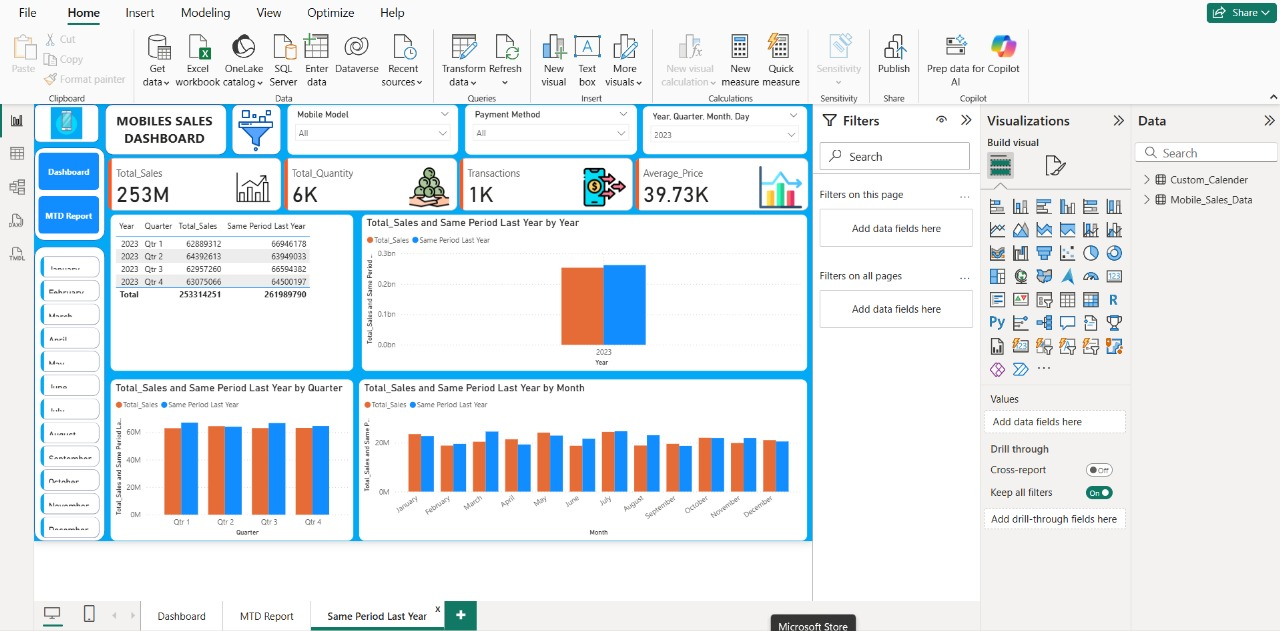

The dashboard page shown, as its layout file describes it:
{"tool":"powerbi","page":{"name":"Same Period Last Year","canvas":[1280,720],"ordinal":2},"visuals":[{"type":"shape","box":[0,0,106.7,63.3],"z":0},{"type":"image","box":[0,0,106.7,62.2],"z":1000},{"type":"shape","box":[0,71.4,116.6,153.7],"z":2000},{"type":"cardVisual","fields":{"Data":["Mobile_Sales_Data.Total_Sales","Mobile_Sales_Data.Total_Quantity","Mobile_Sales_Data.Transactions","Mobile_Sales_Data.Average_Price"]},"box":[116.6,83.7,1163.6,97.4],"z":3000},{"type":"slicer","fields":{"Values":["Mobile_Sales_Data.Mobile Model"]},"box":[415.8,0,282.7,83.7],"z":4000},{"type":"slicer","fields":{"Values":["Mobile_Sales_Data.Payment Method"]},"box":[708.1,0,284,83.7],"z":5000},{"type":"slicer","fields":{"Values":["Custom_Calender.Date.Variation.Date Hierarchy.Year","Custom_Calender.Date.Variation.Date Hierarchy.Quarter","Custom_Calender.Date.Variation.Date Hierarchy.Month","Custom_Calender.Date.Variation.Date Hierarchy.Day"]},"box":[1000.3,2.7,271.7,81],"z":6000},{"type":"shape","box":[325.2,0,81,83.7],"z":7000},{"type":"image","box":[322.5,4.1,83.7,79.6],"z":8000},{"type":"shape","box":[116.2,0,200,83.8],"z":9000},{"type":"textbox","box":[125,6.2,178.8,68.8],"z":10000},{"type":"shape","box":[0,234.6,116.6,485.8],"z":11000},{"type":"advancedSlicerVisual","fields":{"Values":["Custom_Calender.Date.Variation.Date Hierarchy.Month"]},"box":[5.5,245.6,107,474.8],"z":12000},{"type":"tableEx","fields":{"Values":["Custom_Calender.Date.Variation.Date Hierarchy.Year","Custom_Calender.Date.Variation.Date Hierarchy.Quarter","Mobile_Sales_Data.Total_Sales","Mobile_Sales_Data.Same Period Last Year"]},"box":[124.9,181.1,400.7,259.3],"z":13000},{"type":"clusteredColumnChart","fields":{"Category":["Custom_Calender.Date.Variation.Date Hierarchy.Year","Custom_Calender.Date.Variation.Date Hierarchy.Quarter"],"Y":["Mobile_Sales_Data.Total_Sales","Mobile_Sales_Data.Same Period Last Year"]},"box":[537.9,181.1,734.1,259.3],"z":14000},{"type":"clusteredColumnChart","fields":{"Y":["Mobile_Sales_Data.Total_Sales","Mobile_Sales_Data.Same Period Last Year"],"Category":["Custom_Calender.Date.Variation.Date Hierarchy.Year","Custom_Calender.Date.Variation.Date Hierarchy.Quarter","Custom_Calender.Date.Variation.Date Hierarchy.Month","Custom_Calender.Date.Variation.Date Hierarchy.Day"]},"box":[533.8,452.8,738.3,267.6],"z":15000},{"type":"clusteredColumnChart","fields":{"Category":["Custom_Calender.Date.Variation.Date Hierarchy.Year","Custom_Calender.Date.Variation.Date Hierarchy.Quarter"],"Y":["Mobile_Sales_Data.Total_Sales","Mobile_Sales_Data.Same Period Last Year"]},"box":[124.9,452.8,400.7,267.6],"z":16000},{"type":"pageNavigator","box":[6.9,79.6,100.2,135.8],"z":17000}]}

Visuals, with their boxes on the page's 1280x720 design canvas (x1, y1, x2, y2). These are canvas units, not pixel positions in the 1280x631 screenshot, which may show the page scaled, cropped or inside an application window:
shape: {"left": 0, "top": 0, "right": 107, "bottom": 63}
image: {"left": 0, "top": 0, "right": 107, "bottom": 62}
shape: {"left": 0, "top": 71, "right": 117, "bottom": 225}
cardVisual - Mobile_Sales_Data.Total_Sales x Mobile_Sales_Data.Total_Quantity: {"left": 117, "top": 84, "right": 1280, "bottom": 181}
slicer - Mobile_Sales_Data.Mobile Model: {"left": 416, "top": 0, "right": 698, "bottom": 84}
slicer - Mobile_Sales_Data.Payment Method: {"left": 708, "top": 0, "right": 992, "bottom": 84}
slicer - Custom_Calender.Date.Variation.Date Hierarchy.Year x Custom_Calender.Date.Variation.Date Hierarchy.Quarter: {"left": 1000, "top": 3, "right": 1272, "bottom": 84}
shape: {"left": 325, "top": 0, "right": 406, "bottom": 84}
image: {"left": 322, "top": 4, "right": 406, "bottom": 84}
shape: {"left": 116, "top": 0, "right": 316, "bottom": 84}
textbox: {"left": 125, "top": 6, "right": 304, "bottom": 75}
shape: {"left": 0, "top": 235, "right": 117, "bottom": 720}
advancedSlicerVisual - Custom_Calender.Date.Variation.Date Hierarchy.Month: {"left": 6, "top": 246, "right": 112, "bottom": 720}
tableEx - Custom_Calender.Date.Variation.Date Hierarchy.Year x Custom_Calender.Date.Variation.Date Hierarchy.Quarter: {"left": 125, "top": 181, "right": 526, "bottom": 440}
clusteredColumnChart - Custom_Calender.Date.Variation.Date Hierarchy.Year x Custom_Calender.Date.Variation.Date Hierarchy.Quarter: {"left": 538, "top": 181, "right": 1272, "bottom": 440}
clusteredColumnChart - Mobile_Sales_Data.Total_Sales x Mobile_Sales_Data.Same Period Last Year: {"left": 534, "top": 453, "right": 1272, "bottom": 720}
clusteredColumnChart - Custom_Calender.Date.Variation.Date Hierarchy.Year x Custom_Calender.Date.Variation.Date Hierarchy.Quarter: {"left": 125, "top": 453, "right": 526, "bottom": 720}
pageNavigator: {"left": 7, "top": 80, "right": 107, "bottom": 215}
